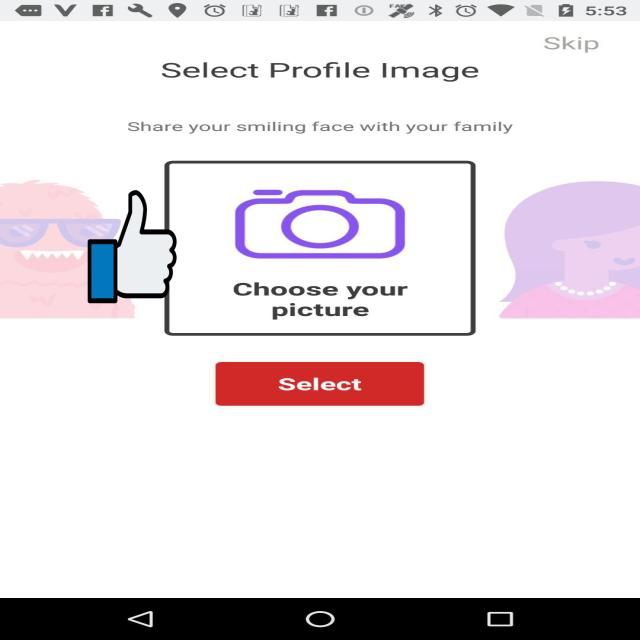privacy zuckering: (88, 188, 176, 306)
